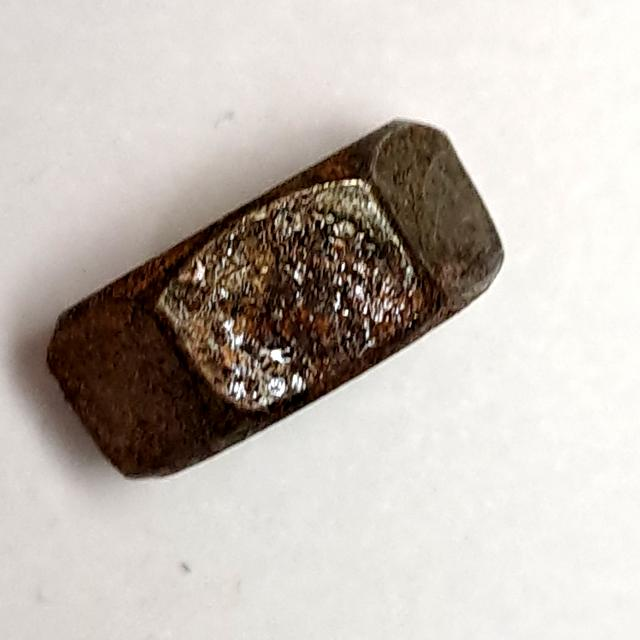Side_Rust: (31, 106, 519, 494)
